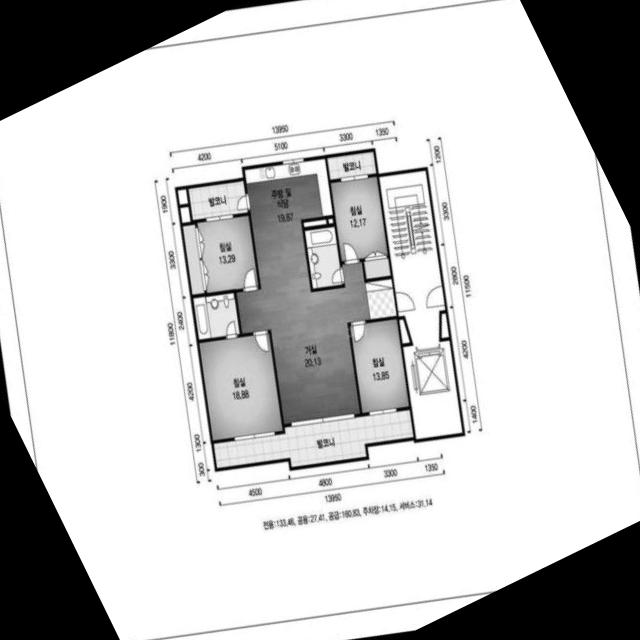background: (0, 0, 640, 640)
space_balconi: (213, 409, 413, 467), (188, 180, 248, 219), (326, 151, 376, 179)
space_bedroom: (199, 333, 282, 440), (330, 176, 390, 279), (182, 215, 258, 294), (350, 318, 409, 412)
space_elevator: (402, 340, 462, 439)
space_front: (364, 278, 396, 319)
space_kitchen: (244, 158, 333, 288)
space_living_room: (236, 261, 370, 424)
space_other: (399, 319, 410, 343), (441, 313, 449, 338), (303, 219, 326, 227), (177, 188, 188, 204), (180, 206, 190, 223), (328, 218, 333, 223)
space_staircase: (379, 170, 445, 345)
space_toilet: (304, 226, 342, 288), (193, 292, 239, 339)
